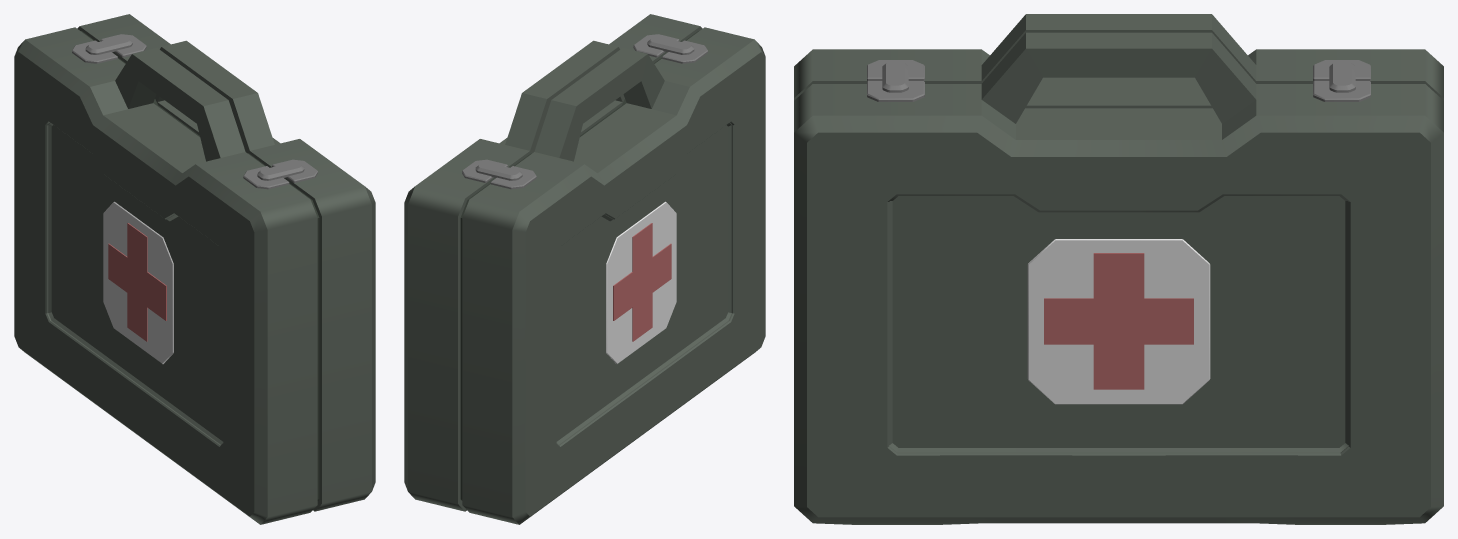
File: Medkit.fbx
The picture shows the model from 3 angles, left to right: view 1: azimuth 30°, elevation 25°; view 2: azimuth 150°, elevation 25°; view 3: azimuth 270°, elevation 25°; orthographic projection. The views are drawn at different scales.
Visible parts, largest first — view 1: polySurface10; view 2: polySurface10; view 3: polySurface10.
Boxes of the visible parts, bbox=[...] form: polySurface10: bbox=[14, 14, 375, 524]; polySurface10: bbox=[404, 14, 765, 524]; polySurface10: bbox=[794, 14, 1443, 524].
Size of the model in its own units: 15.02 by 42.58 by 53.5.
